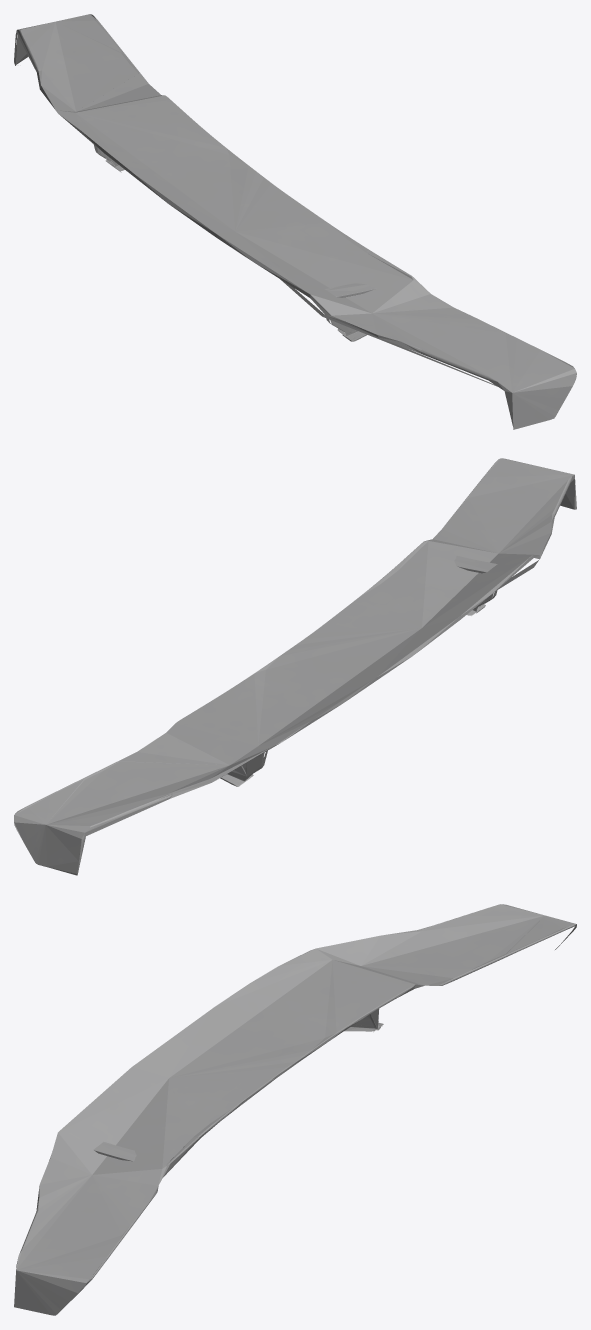
Rendered from bodyPart_spoiler_b01.glb.
3 views of the same model, one above another, from view 1: azimuth 30°, elevation 25°; view 2: azimuth 150°, elevation 25°; view 3: azimuth 330°, elevation 25° (orthographic).
Visible parts, largest first — view 1: geometry_0; view 2: geometry_0; view 3: geometry_0.
Part boxes in pixels (x1=…): geometry_0: x1=14, y1=14, x2=576, y2=429; geometry_0: x1=14, y1=458, x2=576, y2=875; geometry_0: x1=14, y1=904, x2=576, y2=1315.
Bounding box in the file's own units: 0.0781 × 0.0312 × 0.42.
Materials: 1 (1 with a texture image).
